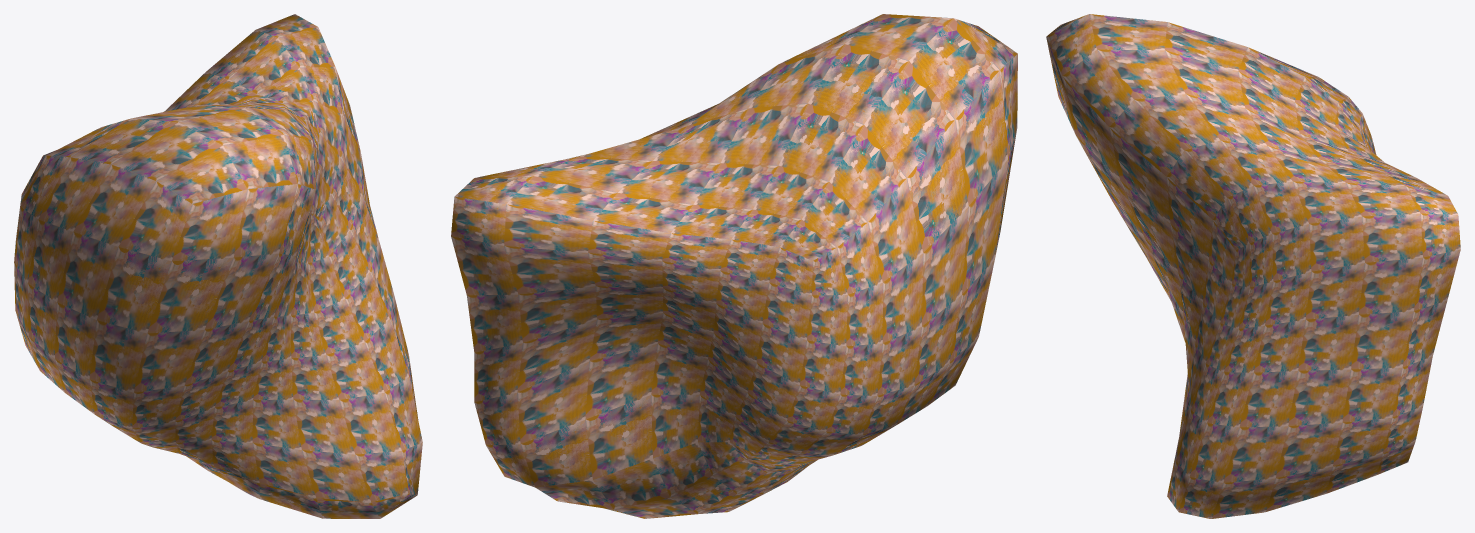
The model's file is fragment2.obj.
3 renders of one model, left to right at view 1: azimuth 30°, elevation 25°; view 2: azimuth 150°, elevation 25°; view 3: azimuth 270°, elevation 25°, orthographic. The views are drawn at different scales.
Visible parts, largest first — view 1: Cube_Cube.001; view 2: Cube_Cube.001; view 3: Cube_Cube.001.
Part boxes in pixels (left/top/right/bottom): Cube_Cube.001: left=14, top=14, right=422, bottom=518; Cube_Cube.001: left=451, top=14, right=1017, bottom=518; Cube_Cube.001: left=1046, top=14, right=1460, bottom=518.
Bounding box in the file's own units: 1.18 × 1.38 × 1.26.
